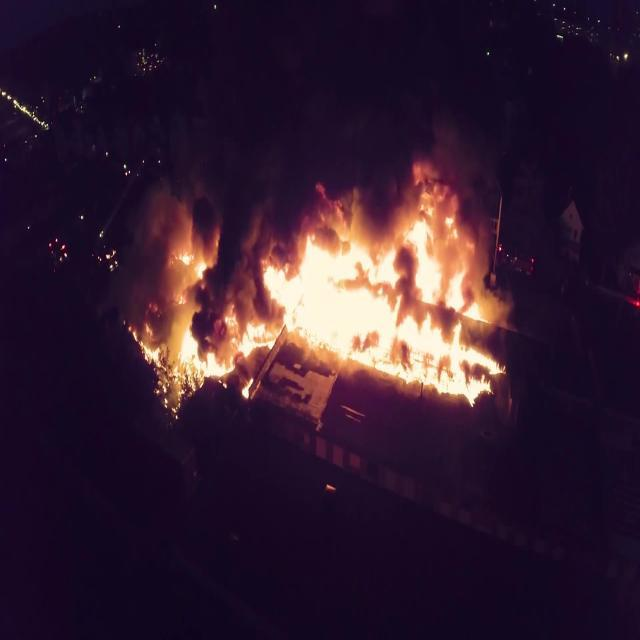Fire: (266, 194, 500, 410), (126, 225, 260, 401)
Smoke: (202, 20, 495, 231), (195, 188, 276, 330)
